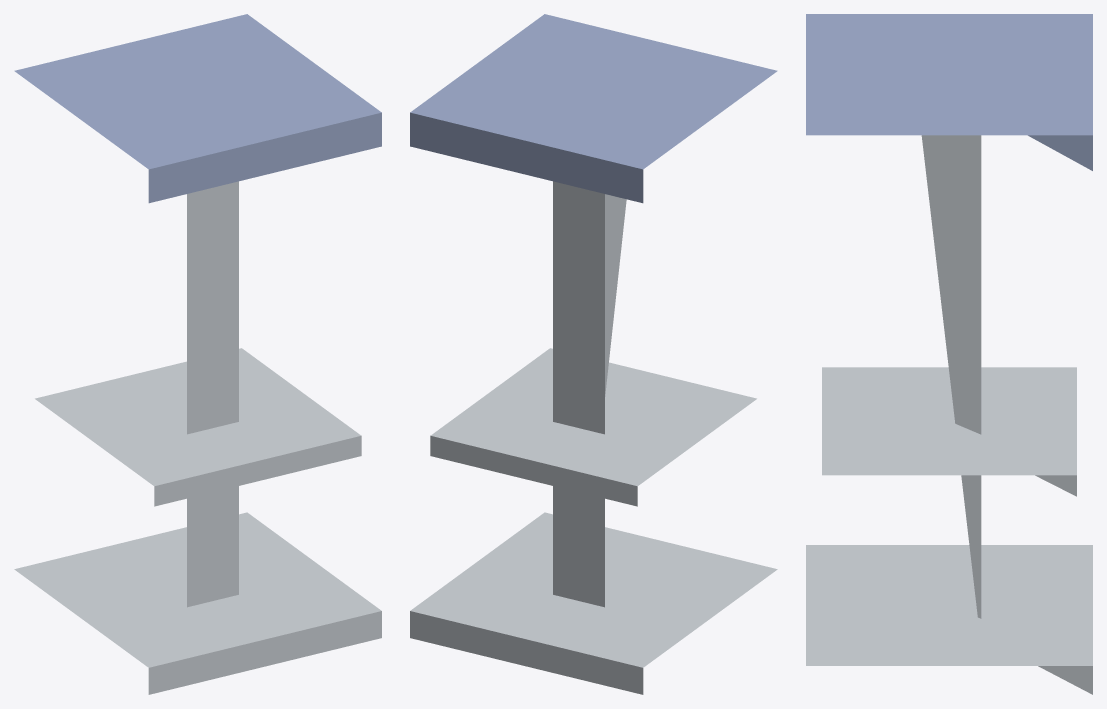
File: bar-stool.glb
3 views of the same model, side by side, from view 1: azimuth 30°, elevation 25°; view 2: azimuth 150°, elevation 25°; view 3: azimuth 270°, elevation 25° (orthographic). The views are drawn at different scales.
Bounding box in the file's own units: 0.36 × 0.775 × 0.36.
